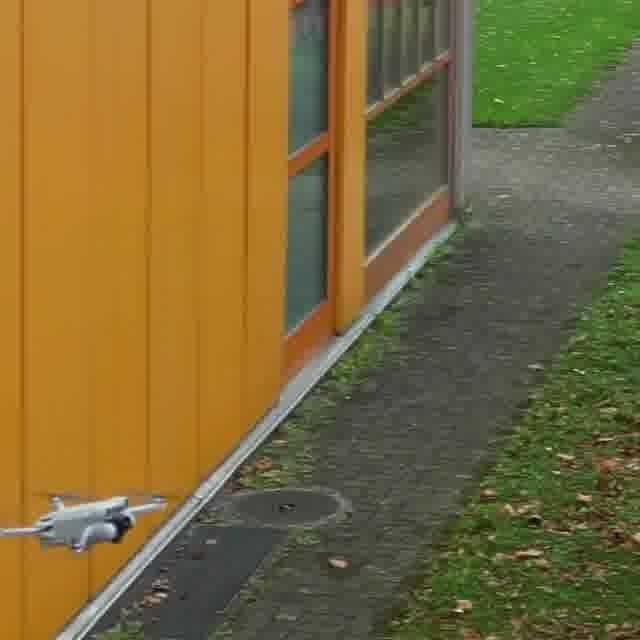Drohne: (0, 495, 164, 552)
